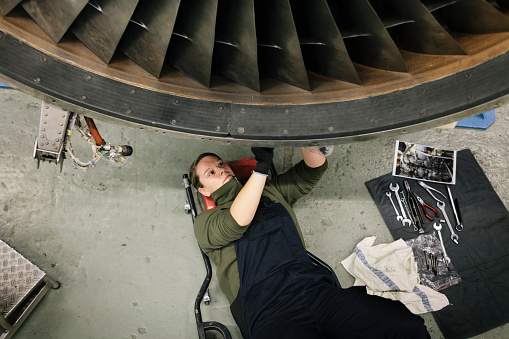deitado: (168, 139, 450, 339)
